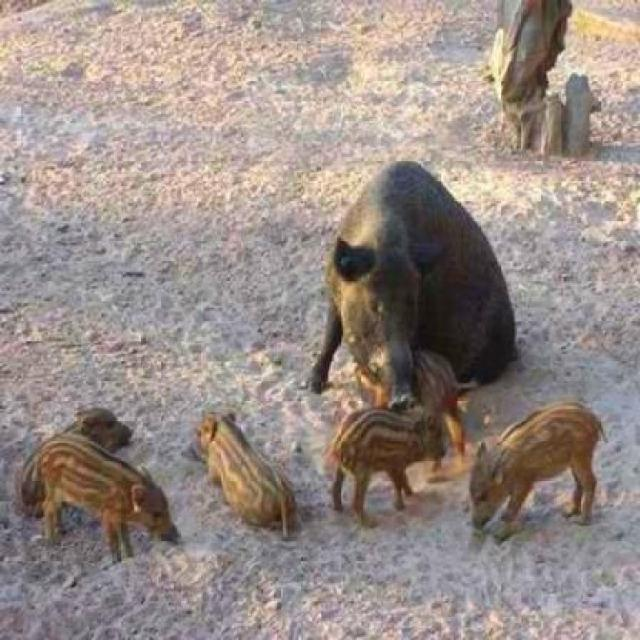Boar: (285, 160, 492, 391), (38, 411, 180, 566), (454, 421, 603, 537), (175, 403, 296, 528), (319, 400, 446, 512)
